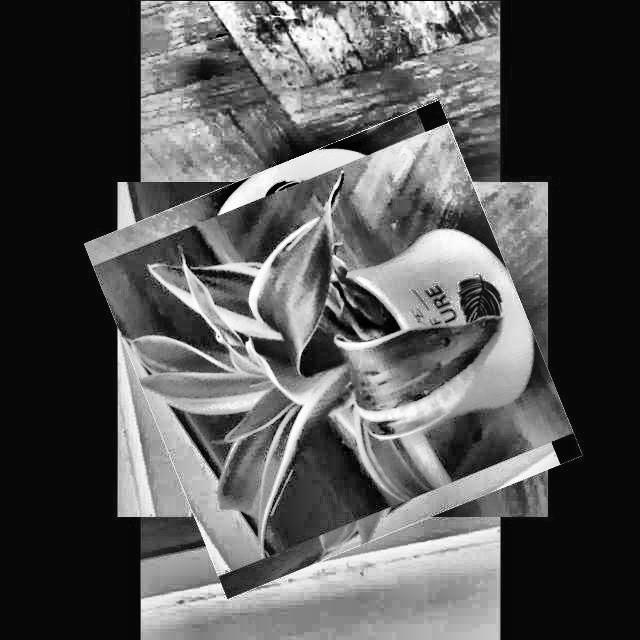plants: (112, 128, 553, 570)
